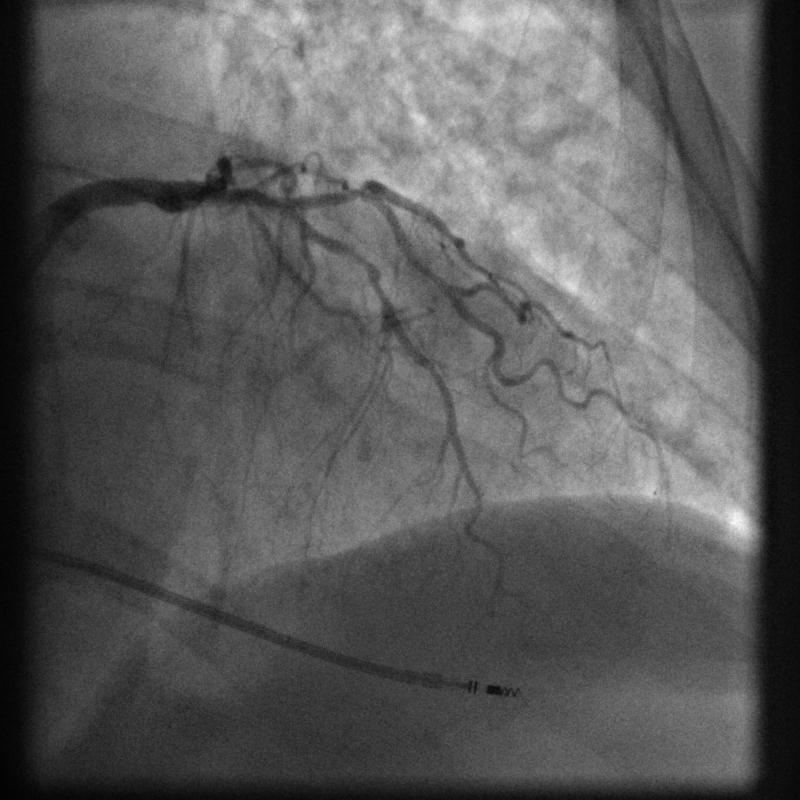Stenosis: (339, 241, 384, 297)
